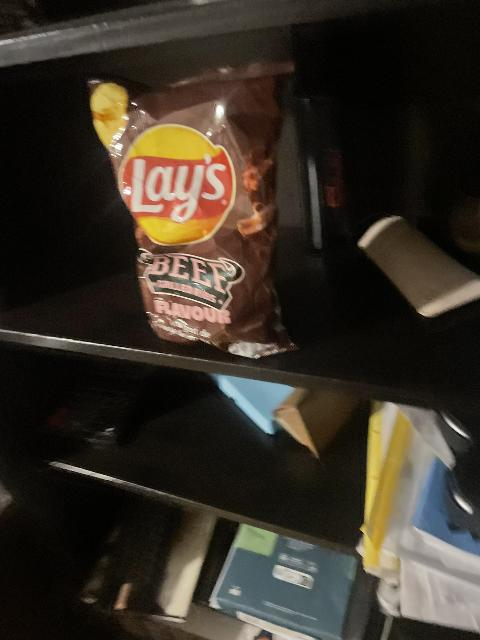Lays Beef Grilled Ribs 125g: (90, 69, 300, 353)
